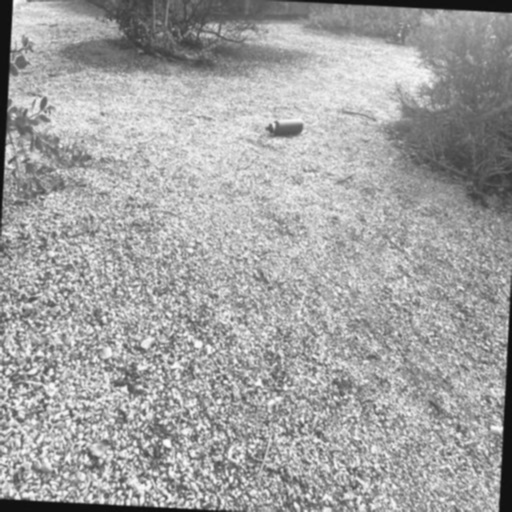bottle: (265, 116, 304, 137), (394, 21, 404, 43), (410, 24, 420, 46), (404, 22, 410, 45)
mallet: (386, 39, 404, 46)
